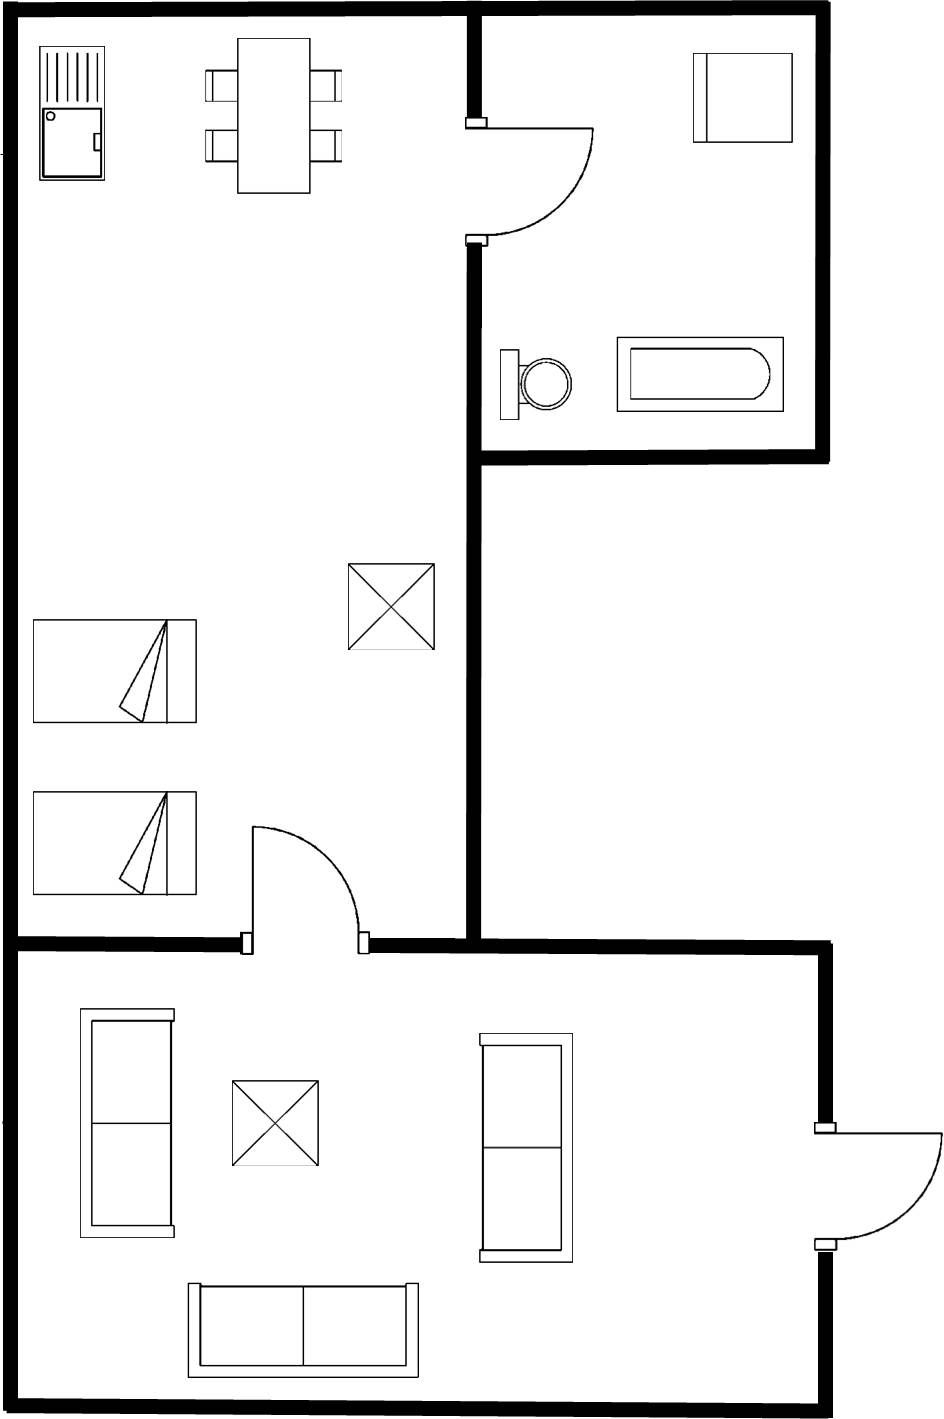bed: (25, 781, 207, 903), (26, 610, 204, 732)
coffee_table: (337, 555, 444, 661), (223, 1073, 329, 1175)
dining_table: (198, 31, 351, 202)
large_sink: (491, 341, 575, 428)
large_sofa: (66, 999, 186, 1246), (471, 1025, 583, 1275), (178, 1275, 426, 1385)
sink: (29, 36, 115, 191)
small_sofa: (684, 42, 800, 150)
tub: (608, 328, 790, 417)
